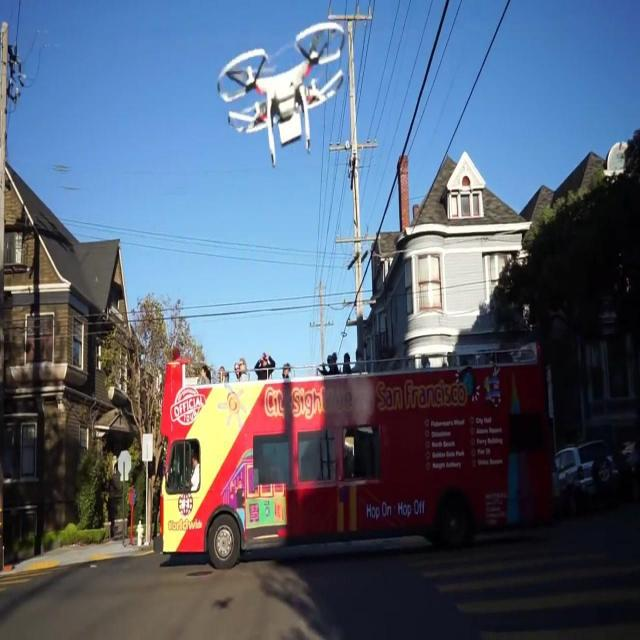UAV: (217, 21, 345, 169)
